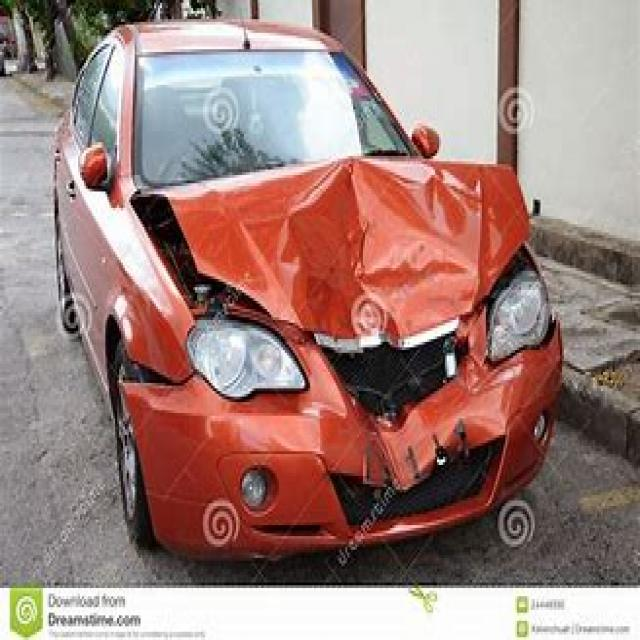Accident: (50, 90, 629, 549)
